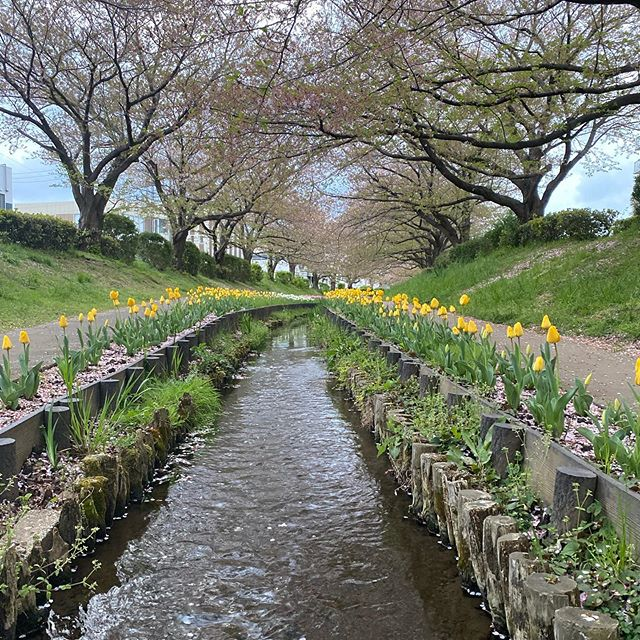flowers: (322, 286, 609, 411), (1, 285, 235, 405)
river: (11, 304, 486, 640)
vegetation: (1, 1, 640, 222)
